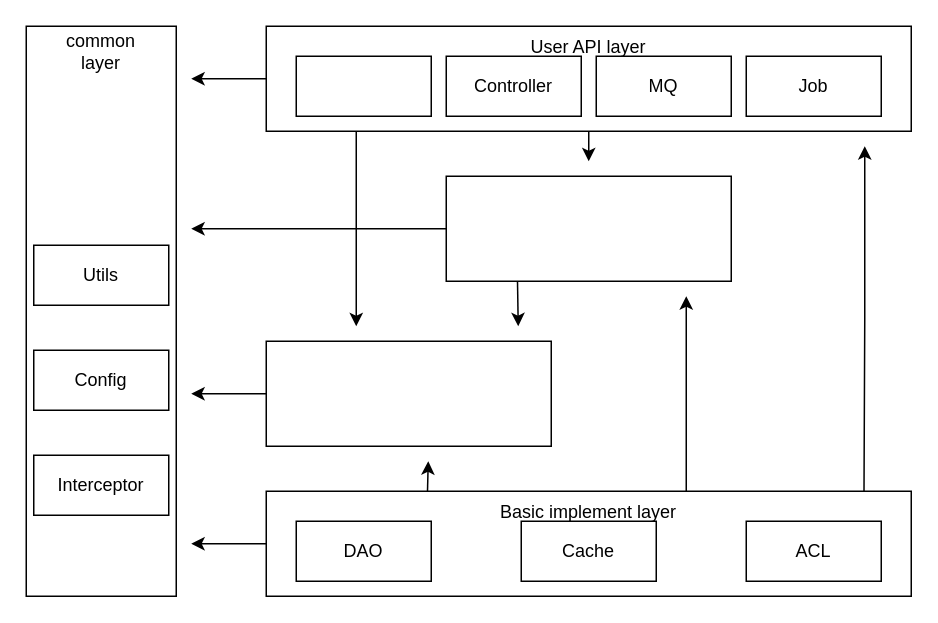
This 938x623 diagram has some shape labels left out. Here are the shapes that lost their labels. From the top down, the centre of each, then its label:
At point (363, 85): "RPC".
At point (588, 228): "Application layer".
At point (408, 393): "Domain layer".
